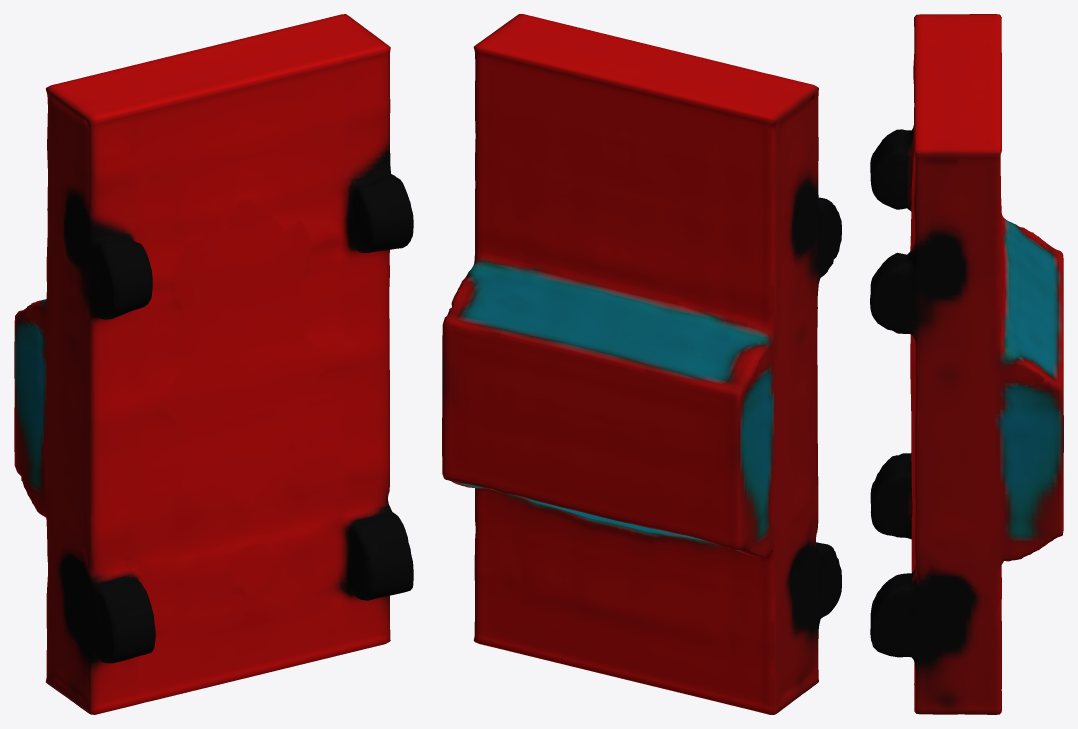
The picture shows the model from 3 angles, left to right: view 1: azimuth 30°, elevation 25°; view 2: azimuth 150°, elevation 25°; view 3: azimuth 270°, elevation 25°; orthographic projection. The views are drawn at different scales.
Parts seen in each view (by area): view 1: plyFile; view 2: plyFile; view 3: plyFile.
Boxes of the visible parts, x1=… form: plyFile: x1=14, y1=14, x2=413, y2=714; plyFile: x1=442, y1=14, x2=841, y2=714; plyFile: x1=870, y1=14, x2=1063, y2=714.
Size of the model in its own units: 105 by 198 by 61.78.
